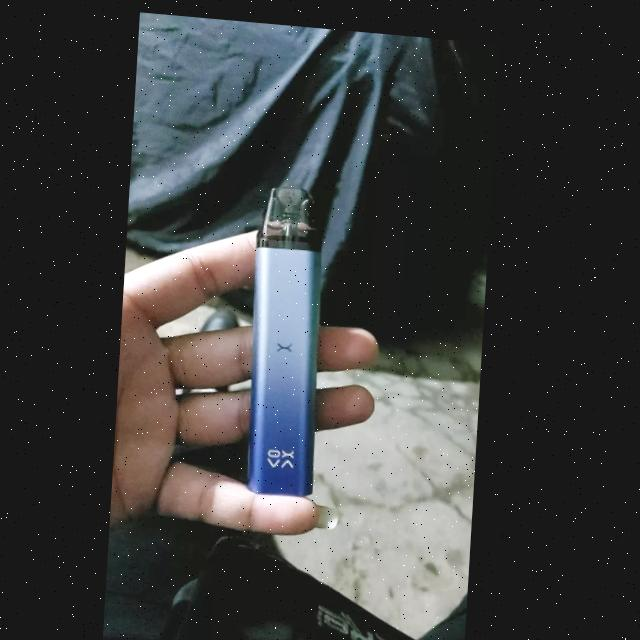vape: (248, 178, 333, 492)
